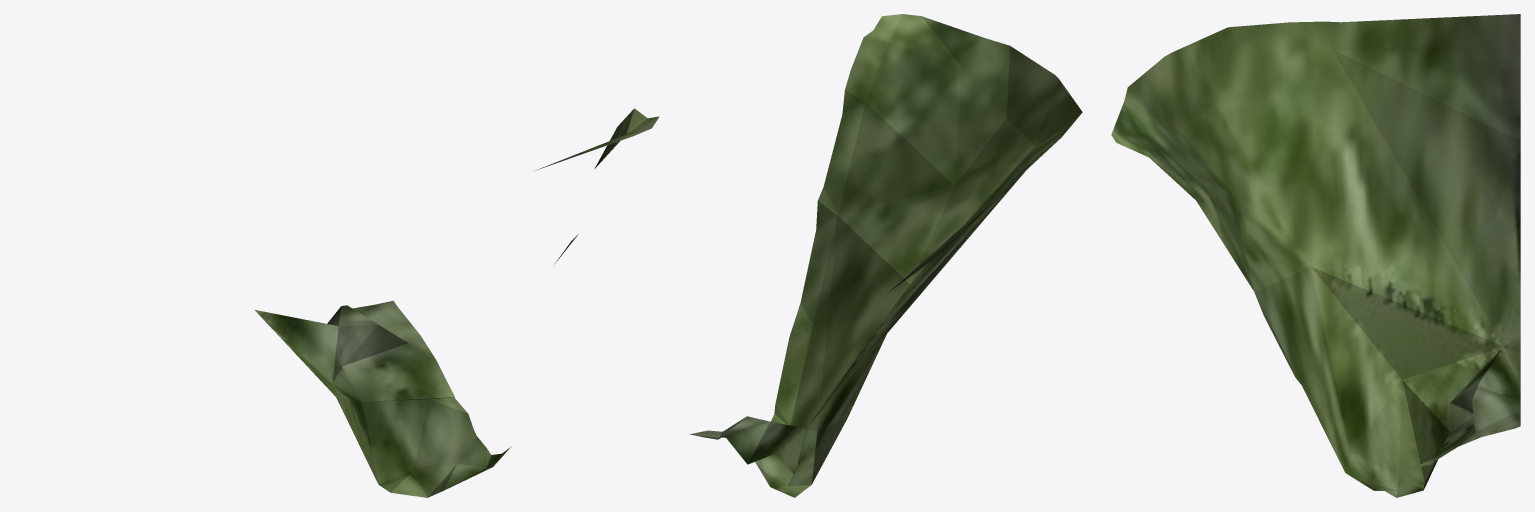
3 views of the same model, side by side, from view 1: azimuth 30°, elevation 25°; view 2: azimuth 150°, elevation 25°; view 3: azimuth 270°, elevation 25° (orthographic). The views are drawn at different scales.
Size of the model in its own units: 0.9922 by 1.25 by 1.27.
Materials: 1 (1 with a texture image).
